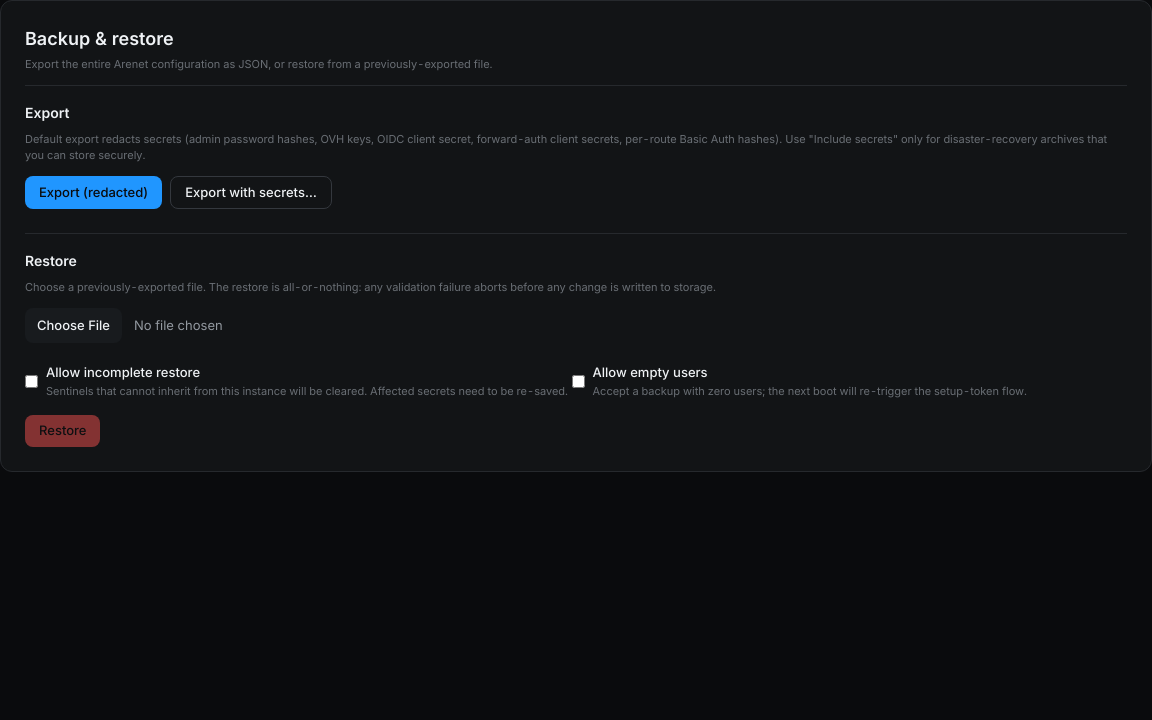
Test case: BackupSection — export › export-with-secrets asks for a passphrase before anything is requested
Step 1. Click the button "Export with secrets…" → {"x": 251, "y": 192}, box [170, 176, 332, 209]
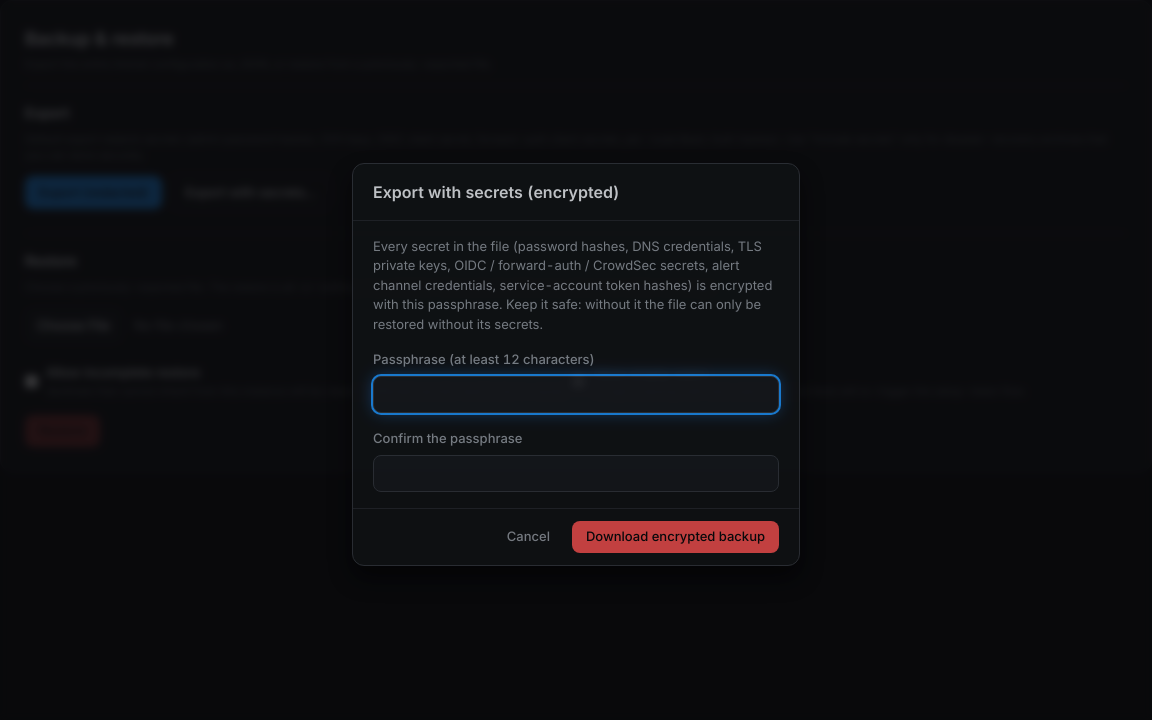
Expected: the heading "Export with secrets (encrypted)" is shown, [373, 178, 619, 198]
